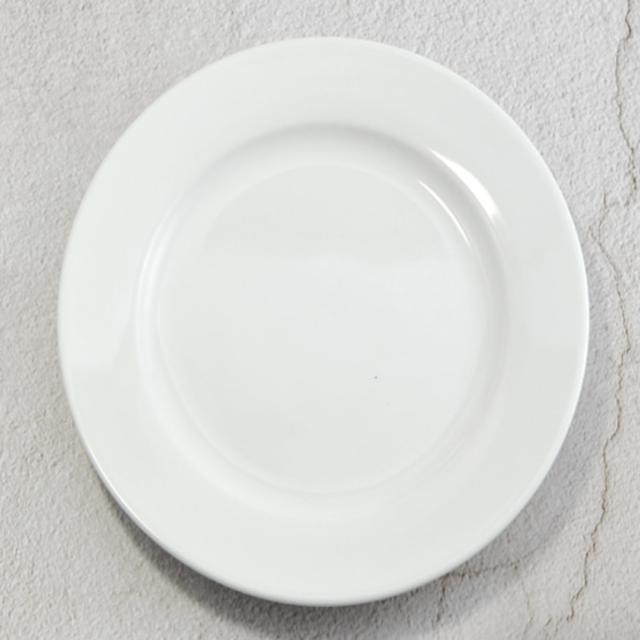recyclable: (49, 28, 599, 625)
